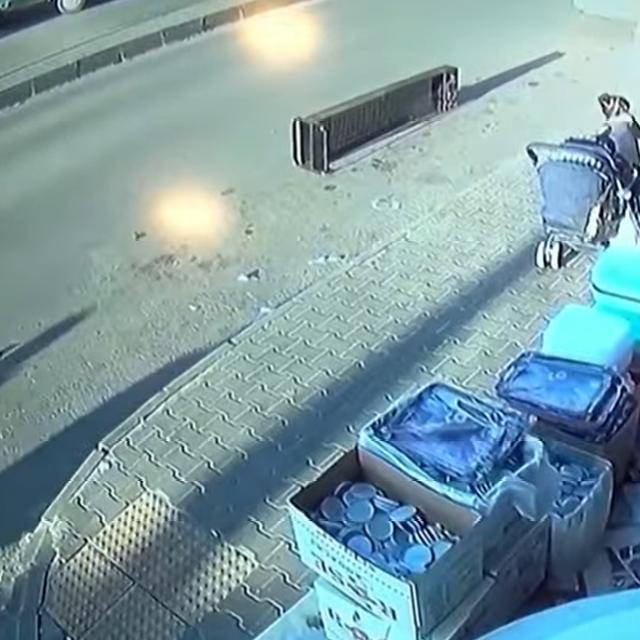Fire: (148, 176, 222, 264), (227, 1, 316, 64)
